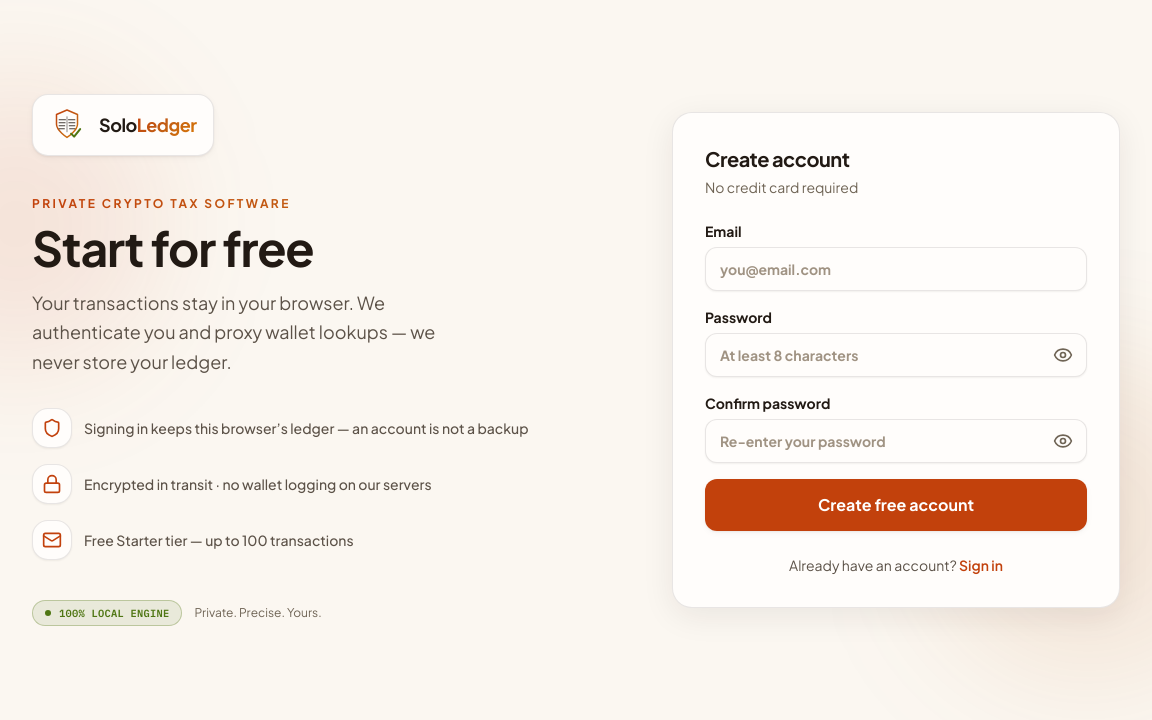
Test: AuthPage › register mode: blocks submit and shows an error when passwords do not match
Type "user@example.com" into the field with placeholder "you@email.com". click: [896, 269]
box: [705,247,1087,291]
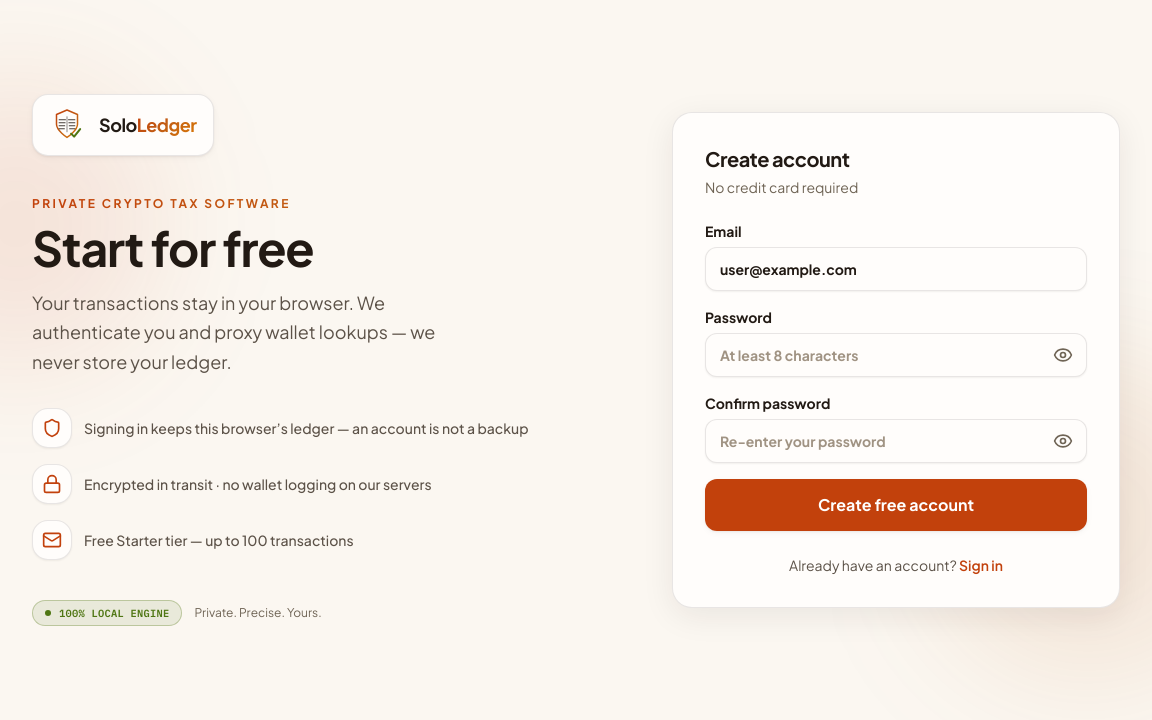
Type "password123" into the password field with placeholder "At least 8 characters". click: [896, 355]
box: [705,333,1087,377]
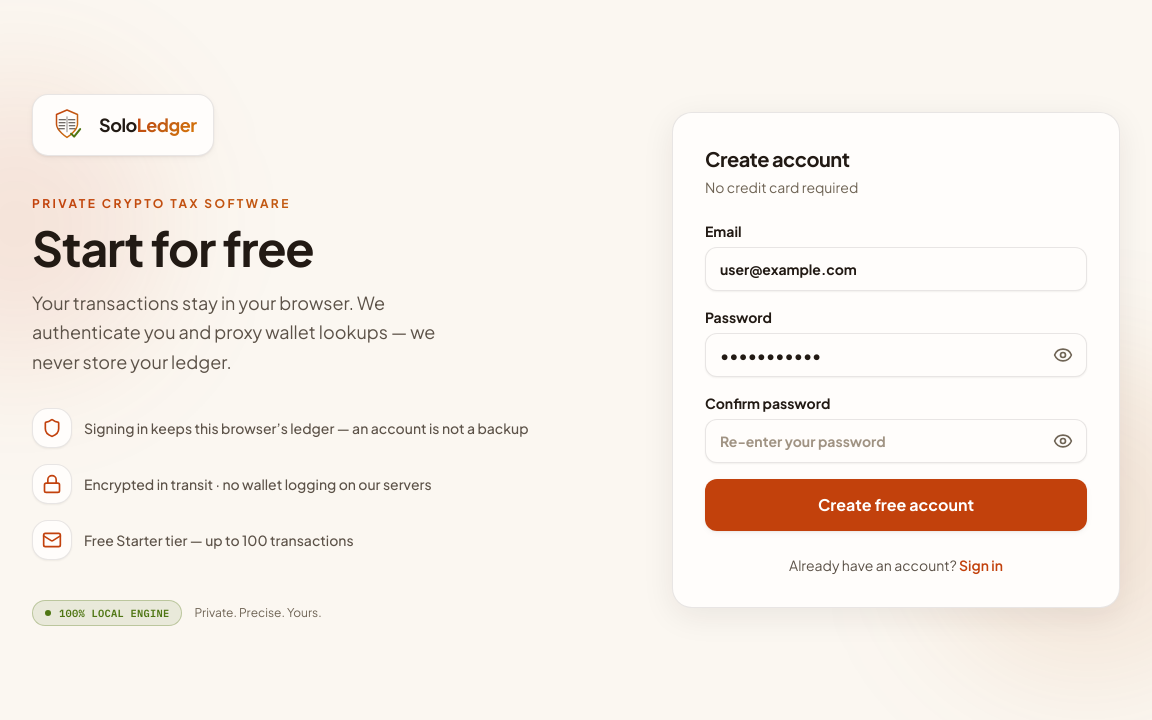
Type "password999" into the password field with placeholder "Re-enter your password". click: [896, 441]
box: [705,419,1087,463]
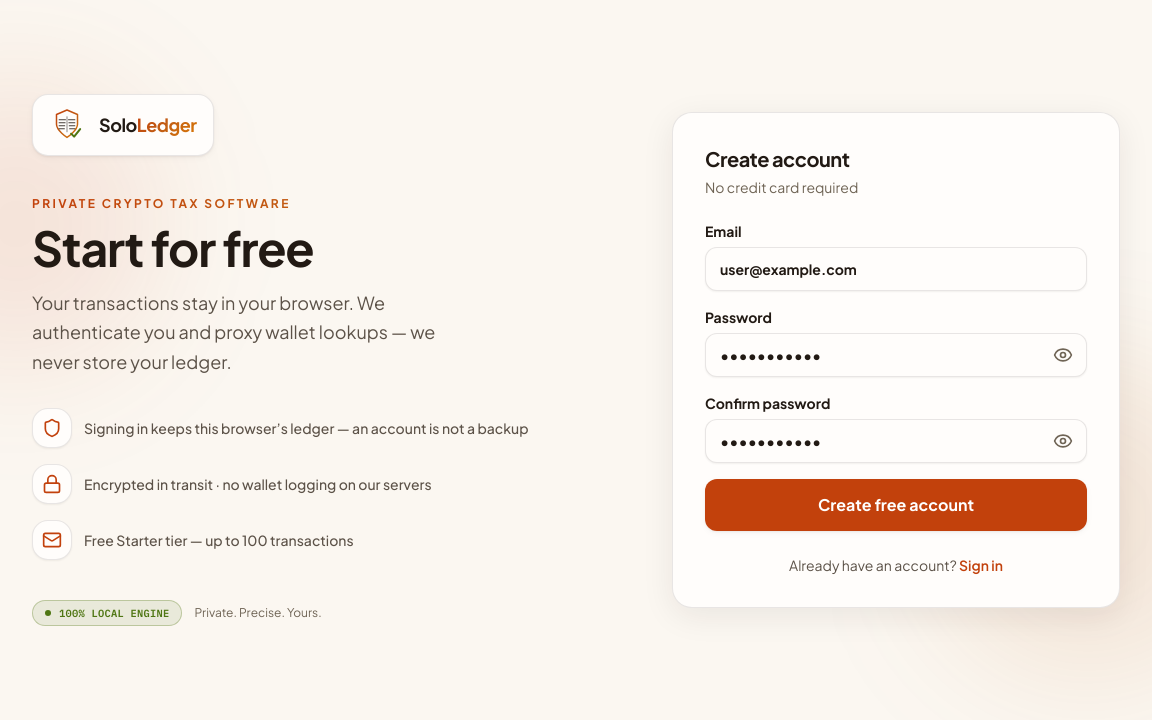
Click the button "Create free account". click: [896, 505]
box: [705,479,1087,531]
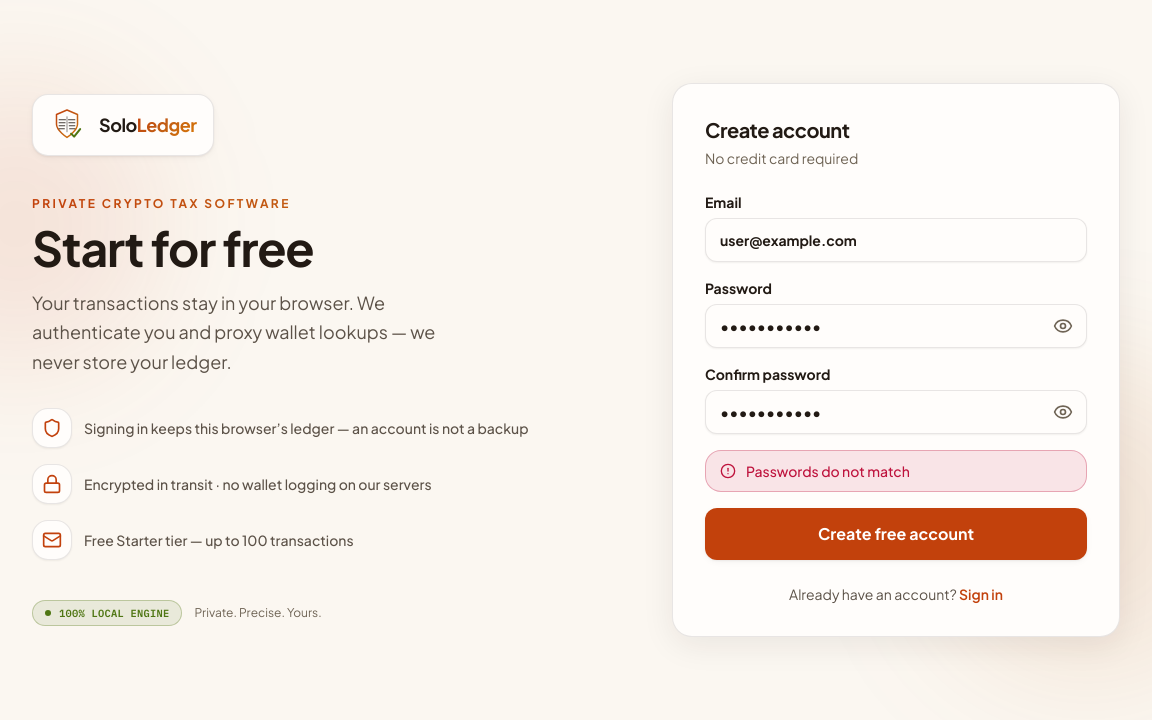
expect the text "Passwords do not match" is shown: met, box [746,461,910,481]
